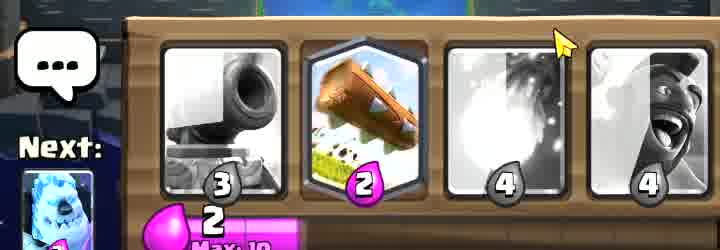ice-golem: (25, 171, 92, 249)
log: (309, 42, 424, 193)
